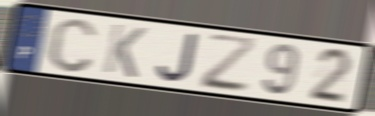2: (306, 47, 354, 107)
9: (261, 43, 299, 97)
C: (45, 15, 100, 75)
J: (155, 31, 201, 84)
K: (100, 21, 149, 80)
Z: (200, 32, 260, 95)
